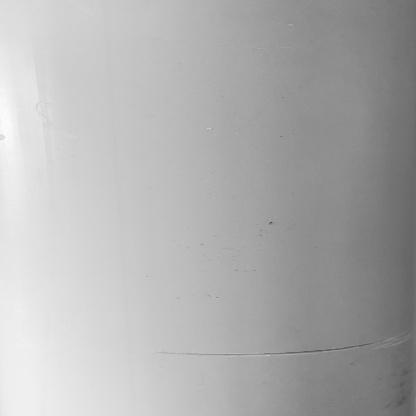sunshang: (151, 341, 415, 358)
